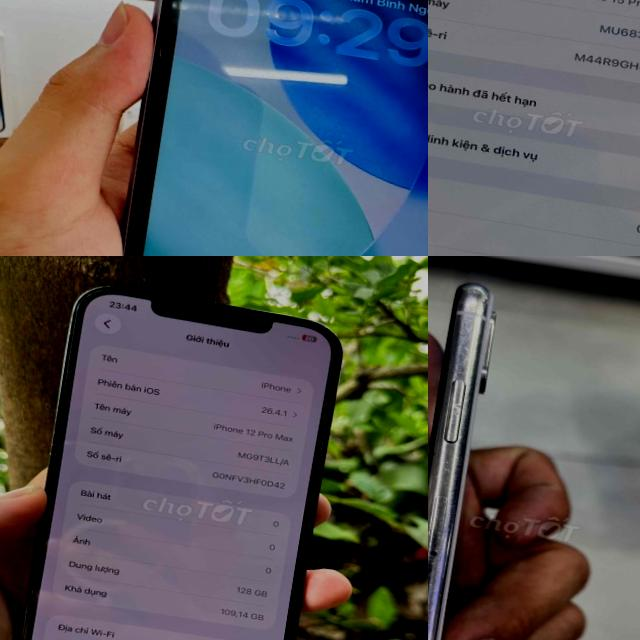gen_11: (81, 0, 428, 256)
gen_12_13: (0, 266, 370, 640)
gen_15: (428, 0, 640, 256)
gen_x_xs: (428, 283, 496, 640)
